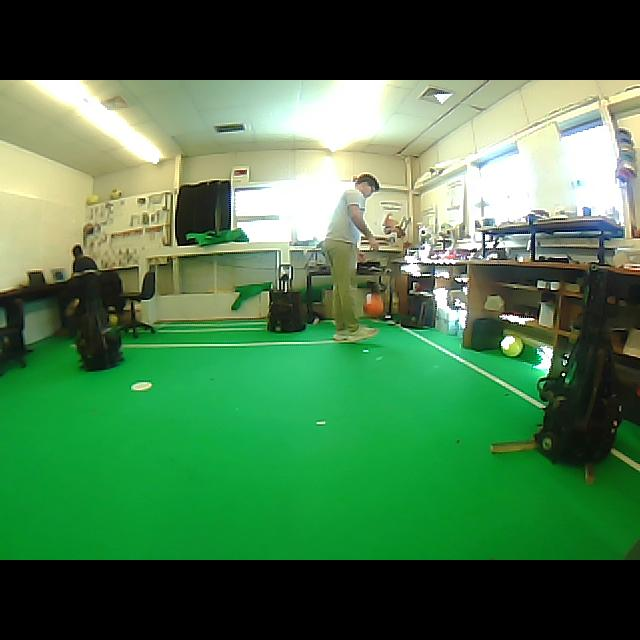ball: (364, 292, 384, 318), (501, 335, 523, 356), (86, 194, 100, 204), (109, 314, 119, 326), (110, 189, 121, 199)
robot: (535, 269, 621, 463), (76, 311, 122, 371), (268, 264, 305, 332)
